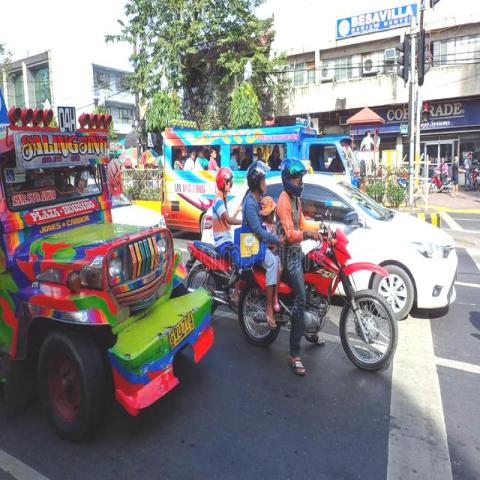jeepney: (2, 100, 217, 440), (149, 119, 378, 247)
motorcycle: (237, 159, 400, 373)
